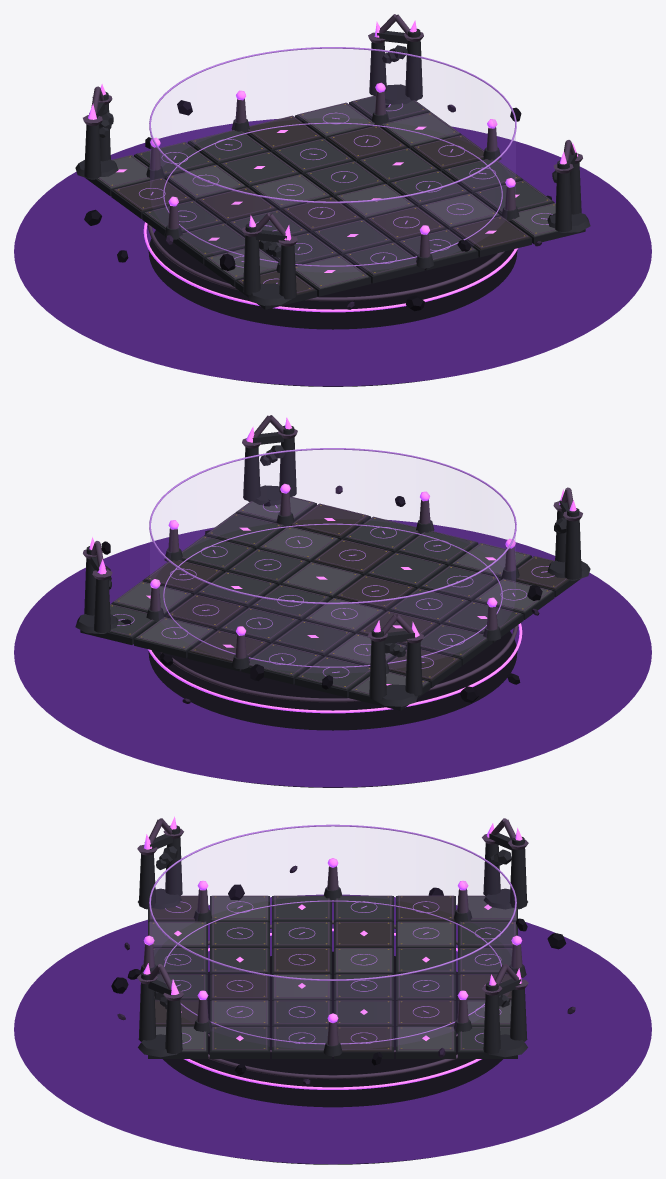
File: chaos_castle.glb
3 renders of one model, top to bottom at view 1: azimuth 30°, elevation 25°; view 2: azimuth 150°, elevation 25°; view 3: azimuth 270°, elevation 25°, orthographic.
Parts seen in each view (by area): view 1: chaos_castle_abyss_rift, chaos_castle_abyss_floor, chaos_castle_barrier_crown, chaos_castle_inner_void_edge, chaos_castle_tile_r02_c03_stone_face, chaos_castle_tile_r01_c03_stone_face, chaos_castle_tile_r04_c04_stone_face, chaos_castle_tile_r01_c04_stone_face, chaos_castle_tile_r02_c04_stone_face, chaos_castle_tile_r01_c02_stone_face, chaos_castle_tile_r04_c02_stone_face, chaos_castle_tile_r05_c04_stone_face (+37 smaller); view 2: chaos_castle_abyss_rift, chaos_castle_abyss_floor, chaos_castle_barrier_crown, chaos_castle_tile_r03_c04_stone_face, chaos_castle_tile_r04_c03_stone_face, chaos_castle_tile_r01_c04_stone_face, chaos_castle_tile_r04_c04_stone_face, chaos_castle_tile_r03_c03_stone_face, chaos_castle_tile_r01_c02_stone_face, chaos_castle_tile_r04_c02_stone_face, chaos_castle_tile_r00_c04_stone_face, chaos_castle_tile_r03_c01_stone_face (+39 smaller); view 3: chaos_castle_abyss_rift, chaos_castle_abyss_floor, chaos_castle_barrier_crown, chaos_castle_tile_r03_c01_stone_face, chaos_castle_tile_r01_c04_stone_face, chaos_castle_tile_r04_c04_stone_face, chaos_castle_tile_r01_c01_stone_face, chaos_castle_tile_r04_c01_stone_face, chaos_castle_tile_r02_c01_stone_face, chaos_castle_tile_r03_c04_stone_face, chaos_castle_tile_r02_c04_stone_face, chaos_castle_tile_r04_c05_stone_face (+43 smaller).
Boxes of the visible parts, <box> form: chaos_castle_abyss_rift: <box>14,119,651,386</box>; chaos_castle_abyss_floor: <box>148,230,517,386</box>; chaos_castle_barrier_crown: <box>149,47,516,203</box>; chaos_castle_inner_void_edge: <box>147,224,504,301</box>; chaos_castle_tile_r02_c03_stone_face: <box>305,161,383,194</box>; chaos_castle_tile_r01_c03_stone_face: <box>274,138,352,171</box>; chaos_castle_tile_r04_c04_stone_face: <box>421,193,498,226</box>; chaos_castle_tile_r01_c04_stone_face: <box>328,126,405,158</box>; chaos_castle_tile_r02_c04_stone_face: <box>359,148,436,181</box>; chaos_castle_tile_r01_c02_stone_face: <box>220,151,298,185</box>; chaos_castle_tile_r04_c02_stone_face: <box>313,219,391,253</box>; chaos_castle_tile_r05_c04_stone_face: <box>452,216,529,249</box>; chaos_castle_abyss_rift: <box>14,520,651,787</box>; chaos_castle_abyss_floor: <box>148,631,517,787</box>; chaos_castle_barrier_crown: <box>149,448,516,604</box>; chaos_castle_tile_r03_c04_stone_face: <box>229,549,306,582</box>; chaos_castle_tile_r04_c03_stone_face: <box>313,539,391,572</box>; chaos_castle_tile_r01_c04_stone_face: <box>167,594,244,627</box>; chaos_castle_tile_r04_c04_stone_face: <box>260,527,337,559</box>; chaos_castle_tile_r03_c03_stone_face: <box>282,562,360,595</box>; chaos_castle_tile_r01_c02_stone_face: <box>274,620,352,654</box>; chaos_castle_tile_r04_c02_stone_face: <box>367,552,445,586</box>; chaos_castle_tile_r00_c04_stone_face: <box>136,617,213,650</box>; chaos_castle_tile_r03_c01_stone_face: <box>390,588,467,621</box>; chaos_castle_abyss_rift: <box>14,894,651,1164</box>; chaos_castle_abyss_floor: <box>163,951,502,1164</box>; chaos_castle_barrier_crown: <box>149,824,516,980</box>; chaos_castle_tile_r03_c01_stone_face: <box>273,921,330,946</box>; chaos_castle_tile_r01_c04_stone_face: <box>397,1000,454,1025</box>; chaos_castle_tile_r04_c04_stone_face: <box>211,1000,268,1025</box>; chaos_castle_tile_r01_c01_stone_face: <box>397,921,454,946</box>; chaos_castle_tile_r04_c01_stone_face: <box>211,921,268,946</box>; chaos_castle_tile_r02_c01_stone_face: <box>335,921,392,946</box>; chaos_castle_tile_r03_c04_stone_face: <box>273,1000,330,1025</box>; chaos_castle_tile_r02_c04_stone_face: <box>335,1000,392,1025</box>; chaos_castle_tile_r04_c05_stone_face: <box>211,1026,268,1051</box>.
Size of the model in its own units: 72 by 18.13 by 72.
